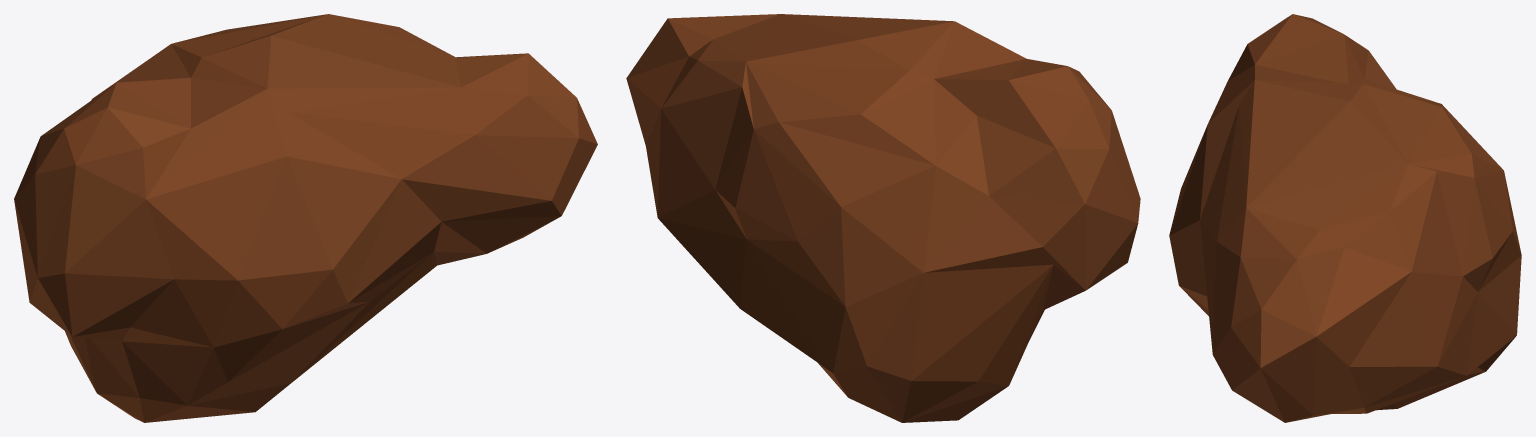
Rendered from Asteroide13.fbx.
3 renders of one model, left to right at view 1: azimuth 30°, elevation 25°; view 2: azimuth 150°, elevation 25°; view 3: azimuth 270°, elevation 25°, orthographic. The views are drawn at different scales.
Parts seen in each view (by area): view 1: Asteroide13; view 2: Asteroide13; view 3: Asteroide13.
Part boxes in pixels (bbox=[...]): Asteroide13: bbox=[14, 14, 597, 422]; Asteroide13: bbox=[626, 14, 1140, 422]; Asteroide13: bbox=[1169, 14, 1521, 422].
Bounding box in the file's own units: 8.08 × 5.15 × 4.74.
